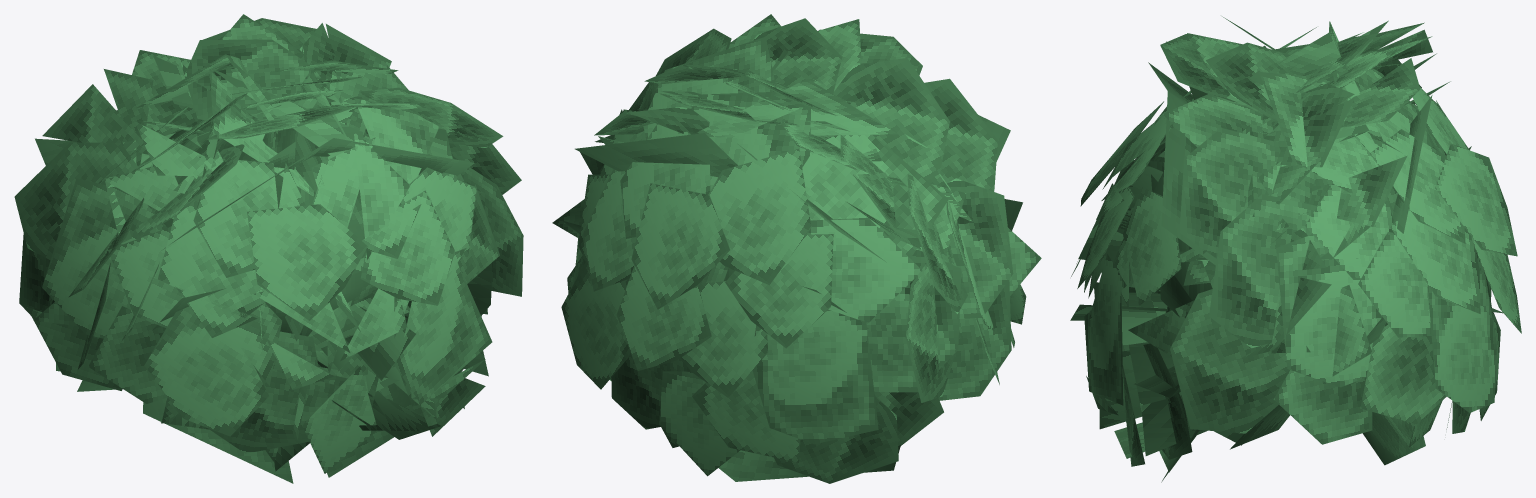
Rendered from bush-hydrangea-summer.glb.
3 views of the same model, side by side, from view 1: azimuth 30°, elevation 25°; view 2: azimuth 150°, elevation 25°; view 3: azimuth 270°, elevation 25° (orthographic). The views are drawn at different scales.
Parts seen in each view (by area): view 1: bush-hydrangea-summer; view 2: bush-hydrangea-summer; view 3: bush-hydrangea-summer.
Boxes of the visible parts, x1=… form: bush-hydrangea-summer: x1=14, y1=14, x2=523, y2=483; bush-hydrangea-summer: x1=552, y1=14, x2=1041, y2=483; bush-hydrangea-summer: x1=1070, y1=16, x2=1521, y2=482.
Bounding box in the file's own units: 1.15 × 0.9549 × 0.9524.
1 material, 1 textured.
